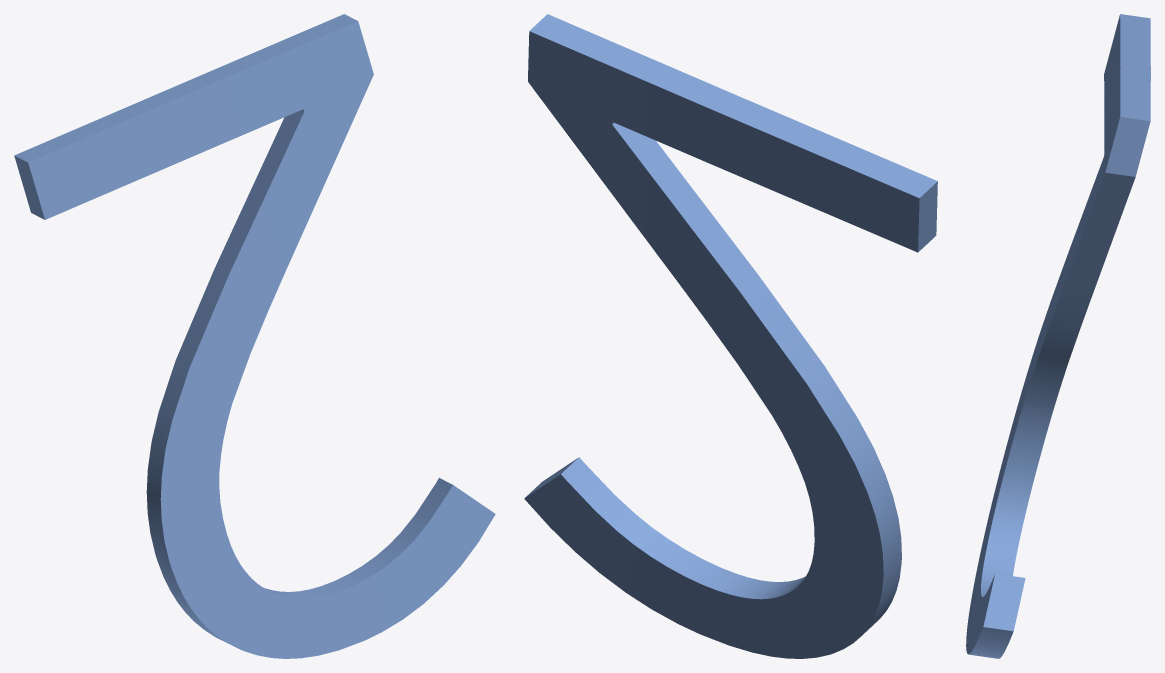
Rendered from New_Number_2.gltf.
3 renders of one model, left to right at view 1: azimuth 30°, elevation 25°; view 2: azimuth 150°, elevation 25°; view 3: azimuth 270°, elevation 25°, orthographic. The views are drawn at different scales.
Visible parts, largest first — view 1: Part 146; view 2: Part 146; view 3: Part 146.
Boxes of the visible parts, x1,y1,x2,y2 form: Part 146: (14,14,495,658); Part 146: (524,14,937,658); Part 146: (966,14,1150,658).
Bounding box in the file's own units: 0.00397 × 0.00525 × 0.00154.
